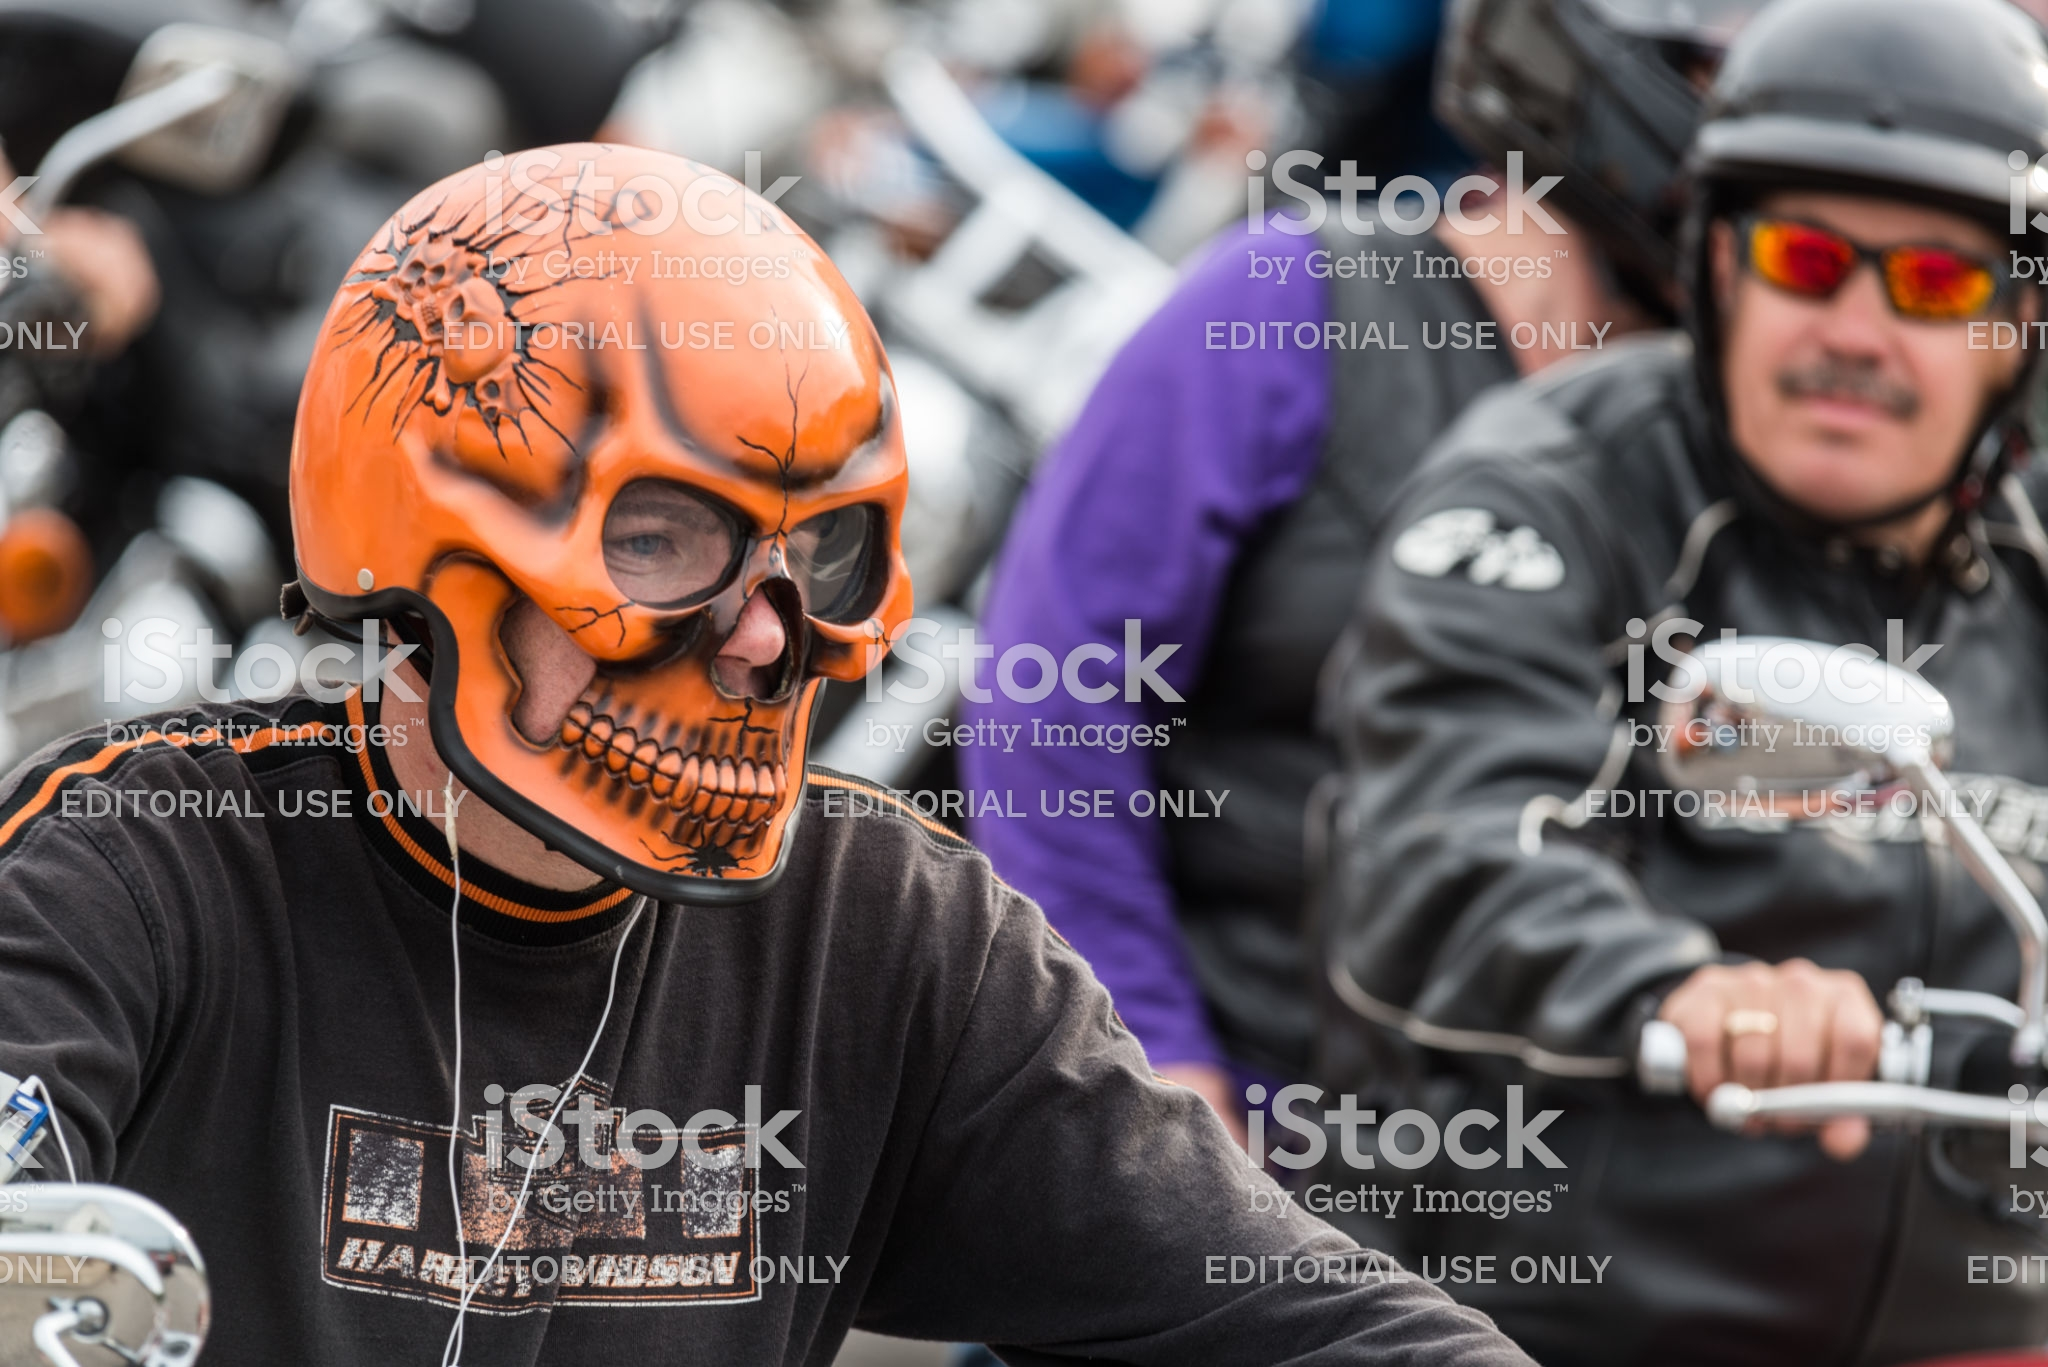helmet: (319, 157, 891, 897), (1709, 18, 2048, 220)
